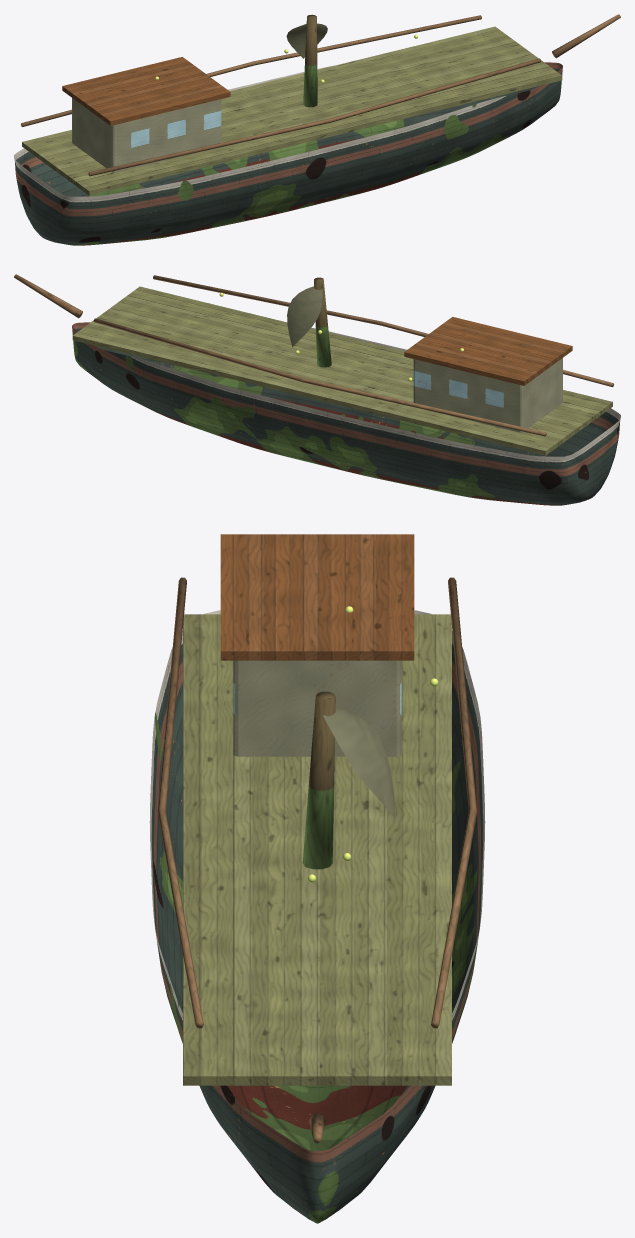
Rendered from albatros_wreck.glb.
3 views of the same model, one above another, from view 1: azimuth 30°, elevation 25°; view 2: azimuth 150°, elevation 25°; view 3: azimuth 270°, elevation 25° (orthographic). The views are drawn at different scales.
Parts seen in each view (by area): view 1: Albatros; view 2: Albatros; view 3: Albatros.
Boxes of the visible parts, box(x1,y1,x2,y2) form: Albatros: box(14, 14, 620, 245); Albatros: box(14, 274, 620, 505); Albatros: box(149, 534, 485, 1223).
Bounding box in the file's own units: 16.02 × 4.69 × 3.99.
Materials: 1 (1 with a texture image).
